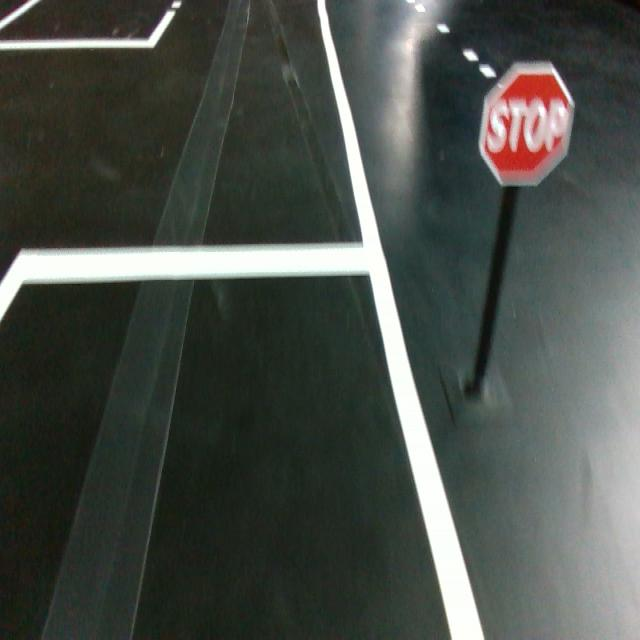stop-sign: (478, 62, 575, 186)
